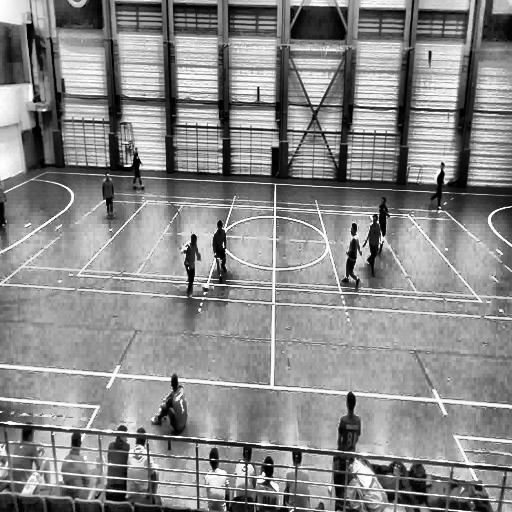ball: (203, 283, 209, 295)
player: (342, 222, 362, 288), (182, 233, 202, 297), (363, 215, 382, 279), (212, 220, 227, 284), (430, 161, 446, 208), (378, 195, 392, 246), (102, 169, 116, 218), (132, 148, 146, 189), (0, 173, 9, 228)
